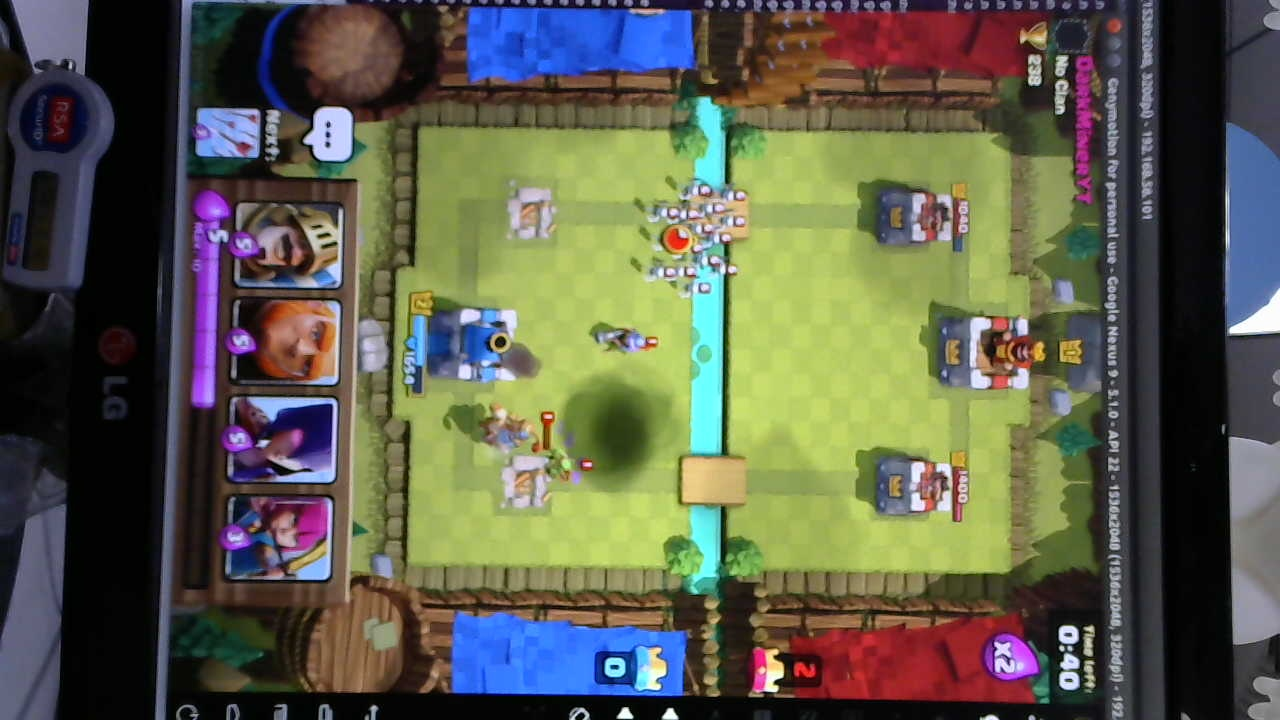darena: (495, 446, 552, 520), (502, 182, 559, 247)
earena: (873, 451, 952, 521), (877, 185, 955, 249)
eking: (936, 316, 1040, 395)
king: (433, 303, 523, 385)
musketeer: (588, 321, 655, 355)
prince: (468, 403, 542, 455)
skeletonarmy: (643, 180, 750, 296)
speargoblin: (540, 437, 579, 490)
